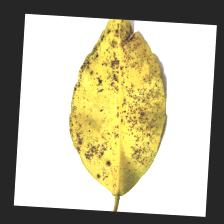canker: (92, 58, 158, 158)
